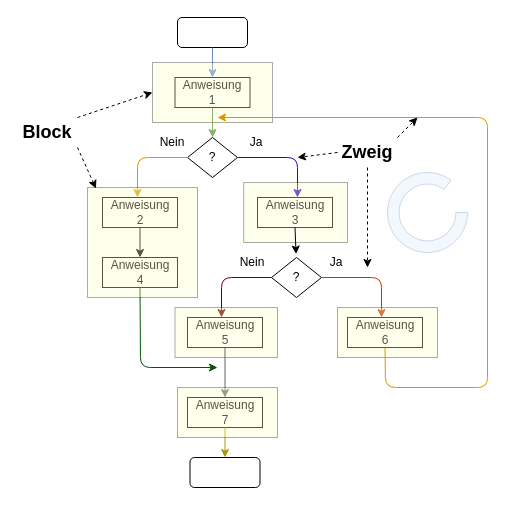
Some shapes in this 513 by 505 pixel diagram are drawn without their labels. Here are the shapes that lost their labels. From the top down, the centre of each, then its label:
[212,32]: Start
[427,212]: Pfad
[224,472]: Ende
